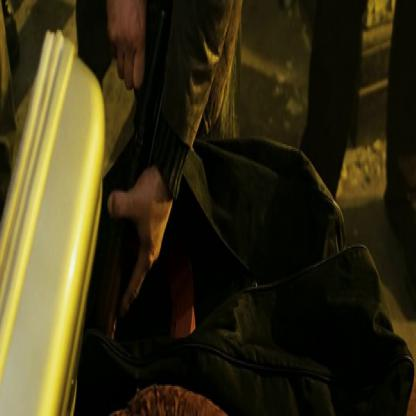Guns: (97, 0, 169, 353)
